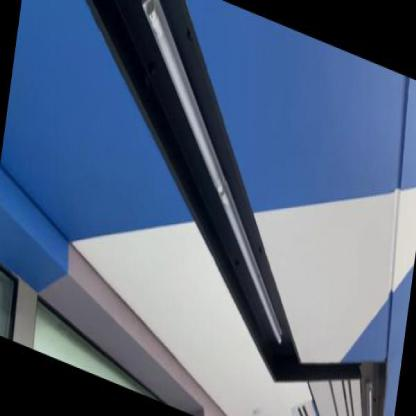light_off: (95, 0, 325, 365)
